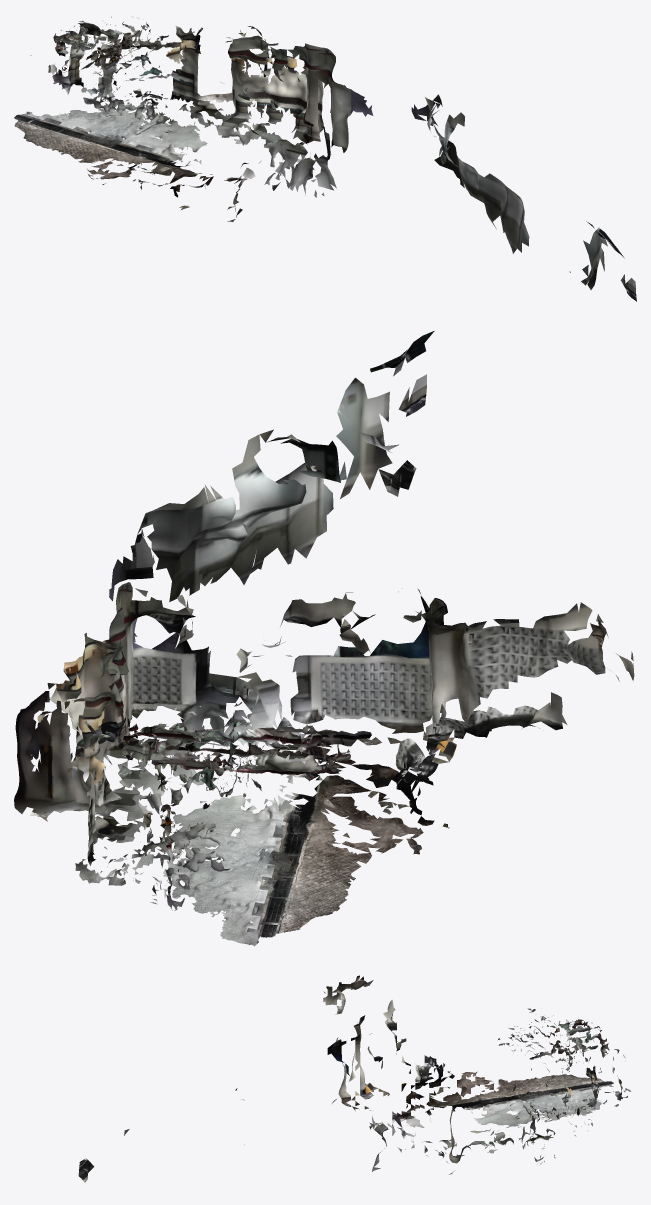
The model's file is 139855-depanjenazah-tex.glb.
3 views of the same model, one above another, from view 1: azimuth 30°, elevation 25°; view 2: azimuth 150°, elevation 25°; view 3: azimuth 270°, elevation 25° (orthographic). The views are drawn at different scales.
Parts seen in each view (by area): view 1: Node; view 2: Node; view 3: Node.
Part boxes in pixels (x1,y1,x2,y2): Node: (14,16,636,301); Node: (14,331,634,946); Node: (78,975,630,1182).
Bounding box in the file's own units: 42.89 × 15.97 × 79.85.
Materials: 13 (13 with a texture image).
